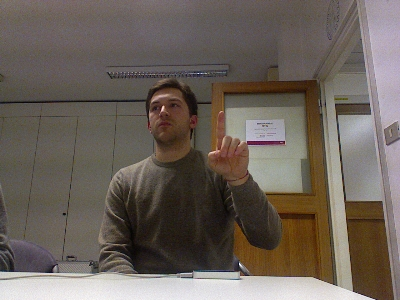食指: (207, 109, 249, 179)
